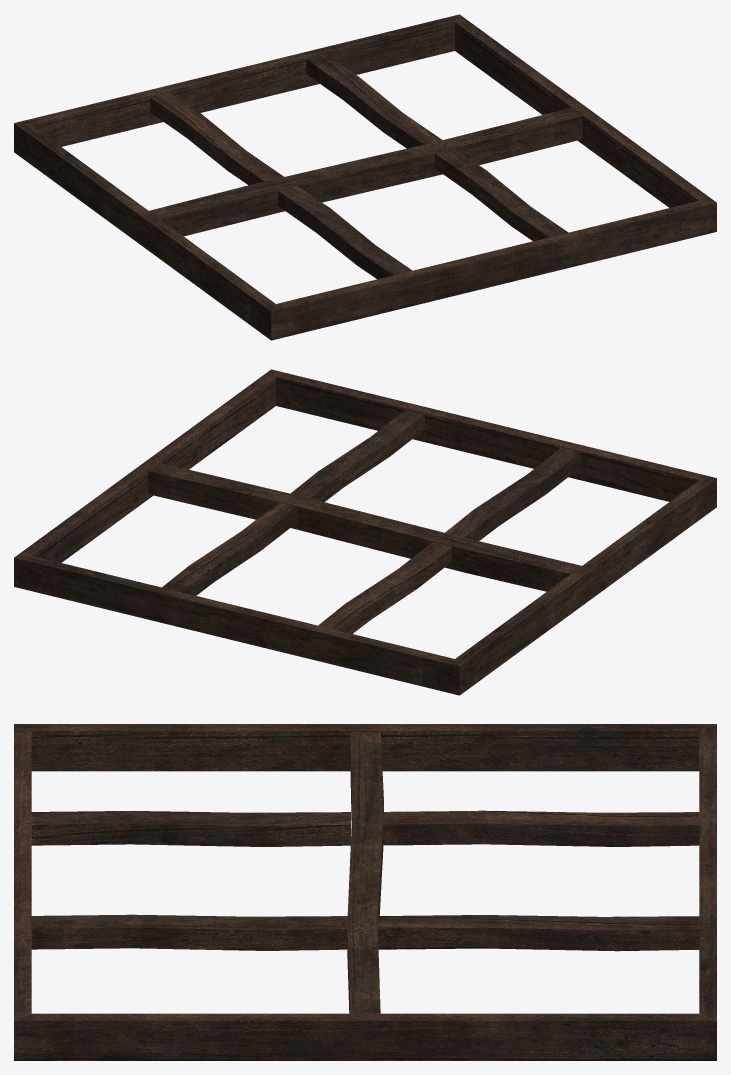
File: attic_floor_01.DAE
3 renders of one model, top to bottom at view 1: azimuth 30°, elevation 25°; view 2: azimuth 150°, elevation 25°; view 3: azimuth 270°, elevation 25°, orthographic. The views are drawn at different scales.
Parts seen in each view (by area): view 1: Object025; view 2: Object025; view 3: Object025.
Boxes of the visible parts, box(x1,y1,x2,y2) form: Object025: box(14, 14, 716, 340); Object025: box(14, 369, 716, 695); Object025: box(14, 724, 716, 1060).
Bounding box in the file's own units: 4 × 0.25 × 4.
